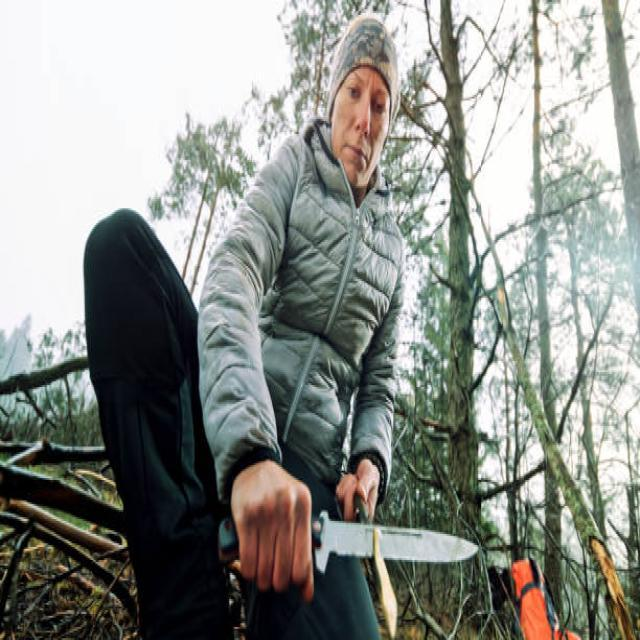faca: (220, 448, 490, 625)
